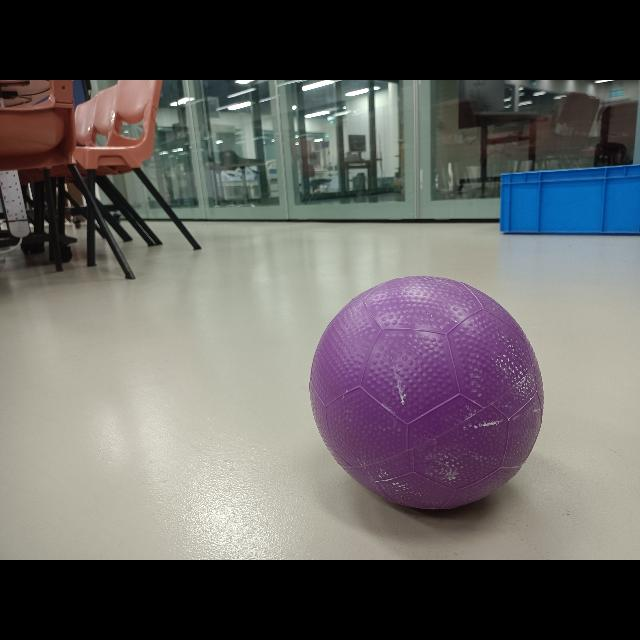P: (303, 271, 547, 515)
